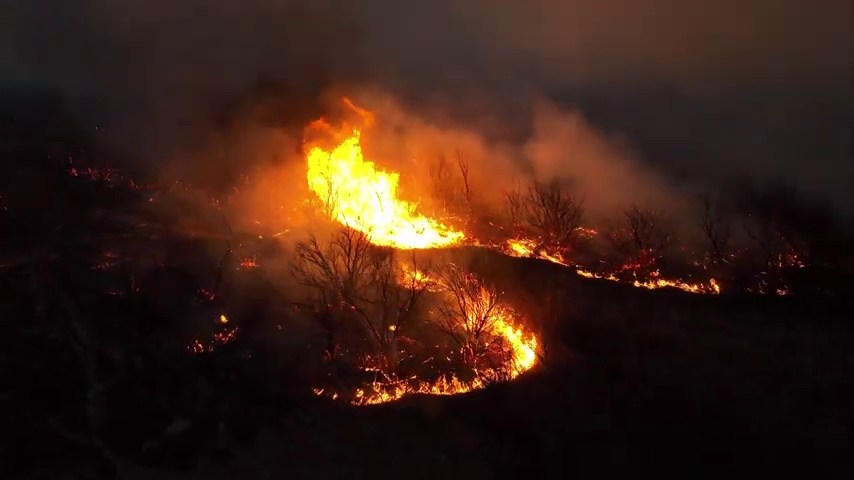forest_fire: (356, 264, 539, 404), (306, 129, 466, 249), (500, 239, 567, 265), (633, 277, 719, 292)
